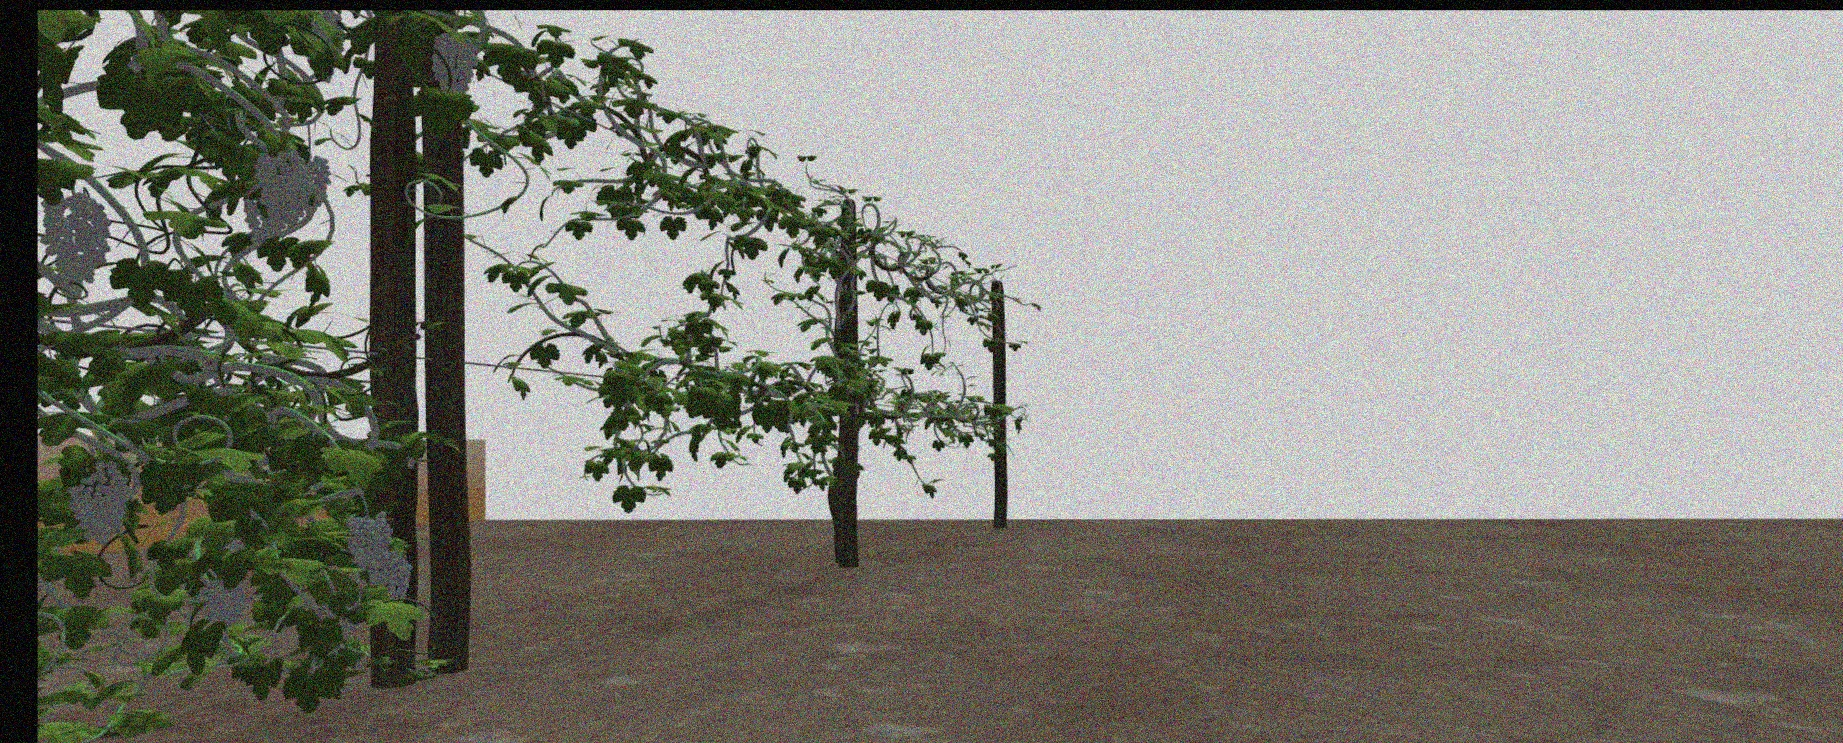grape: (42, 188, 110, 293), (66, 458, 128, 543), (259, 153, 314, 225), (429, 32, 477, 99), (196, 573, 254, 625), (346, 513, 393, 569), (376, 556, 416, 600), (304, 154, 331, 205)
